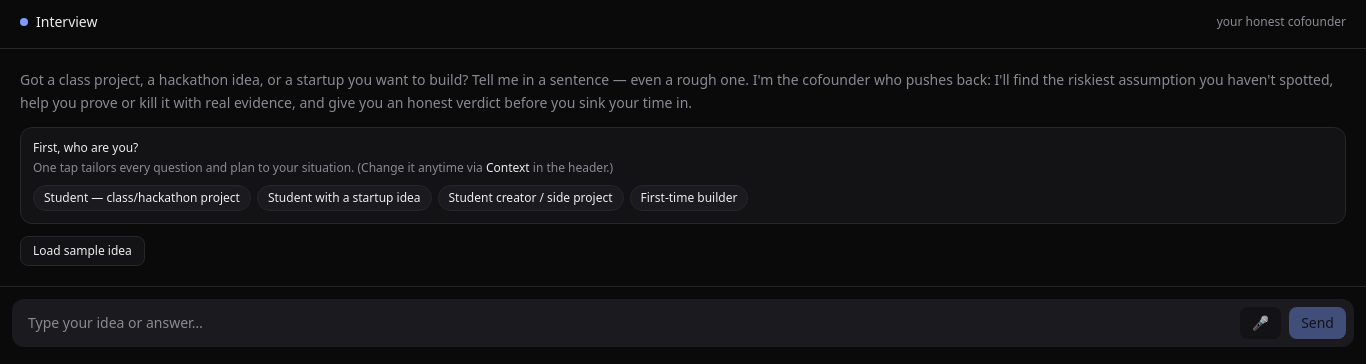
InterviewPanel › streams the assistant reply and reveals the CTA when ready_to_plan
In the text box with placeholder "Type your idea or answer…": {"x": 626, "y": 323} [20, 307, 1232, 339], type "build a thing"
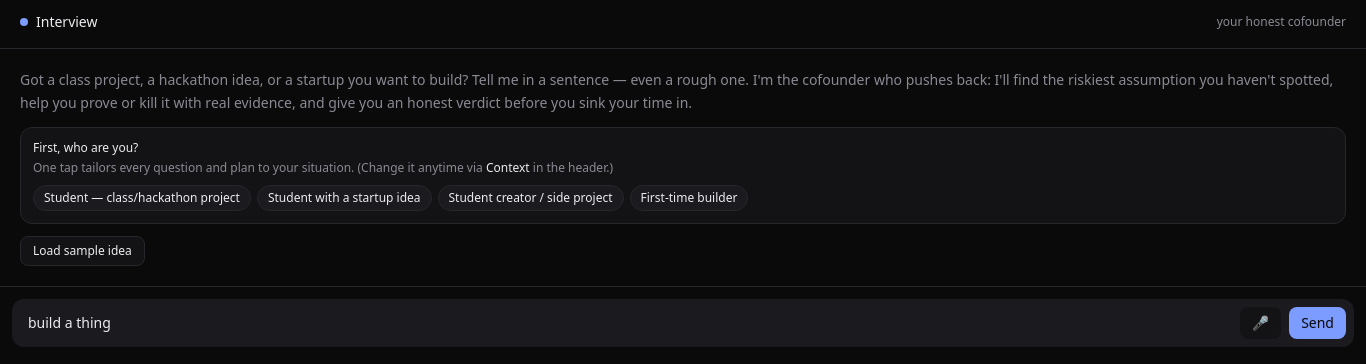
Click the button "Send": {"x": 1318, "y": 323} [1289, 307, 1346, 339]
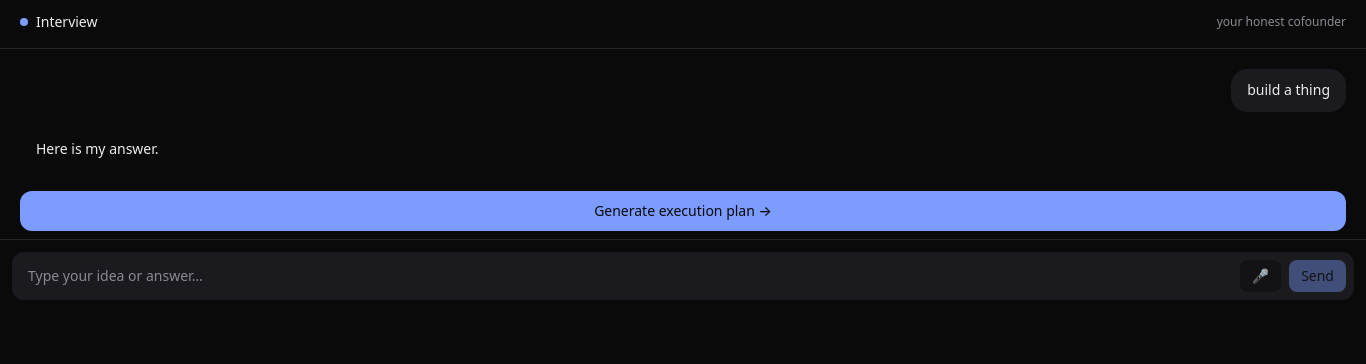
Expected: the text "Here is my answer." is shown, [36, 139, 158, 158]
Expected: the button "Generate execution plan →" is shown, [20, 190, 1346, 230]
